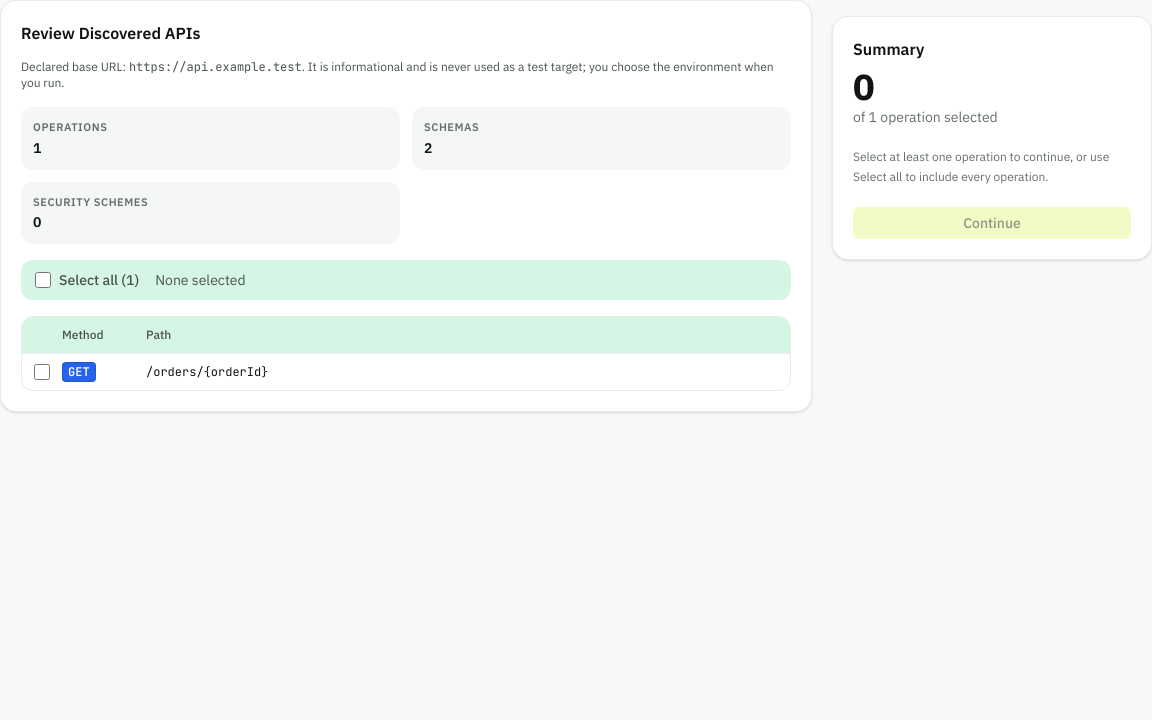
Test: ApiReviewStage for a definition-derived model (specs/056 US6) › labels the operation, each parameter and each status as declared, with no observation count
The image size is (1152, 720).
Click the button "GET /orders/{orderId}" at coordinates (79, 372), box x1=62 y1=354 x2=790 y2=390
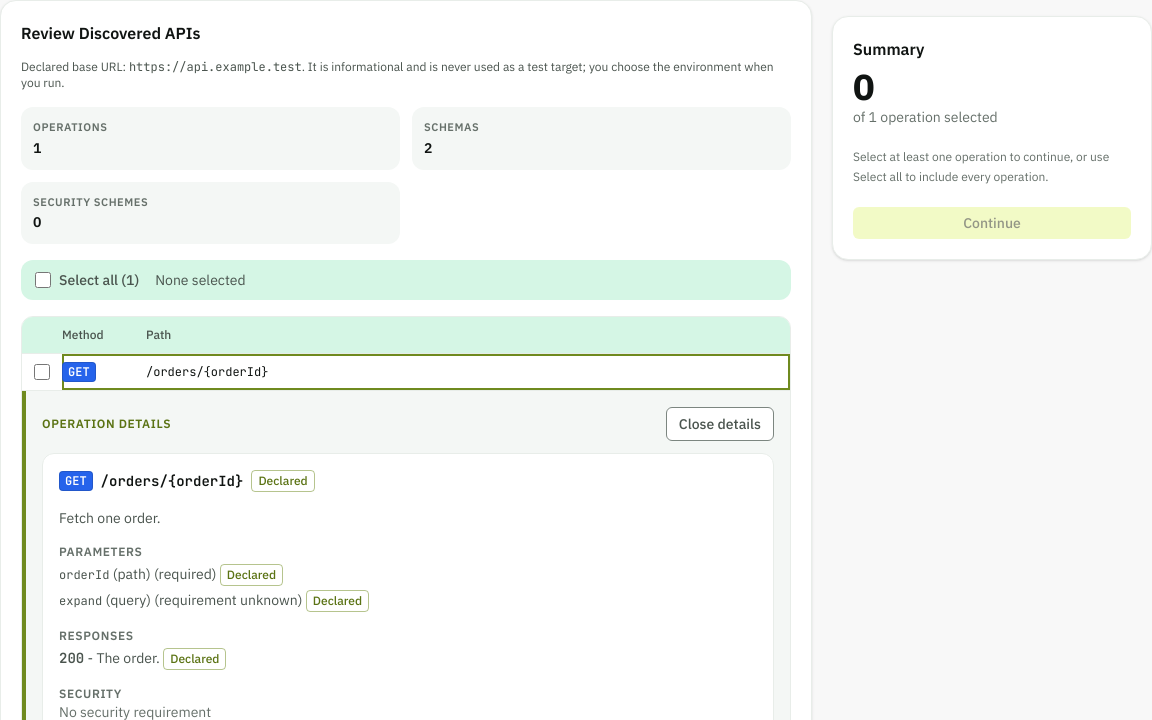
Expected: the element with test id "fact-origin-badge" reads "Declared", x1=258 y1=473 x2=308 y2=488
